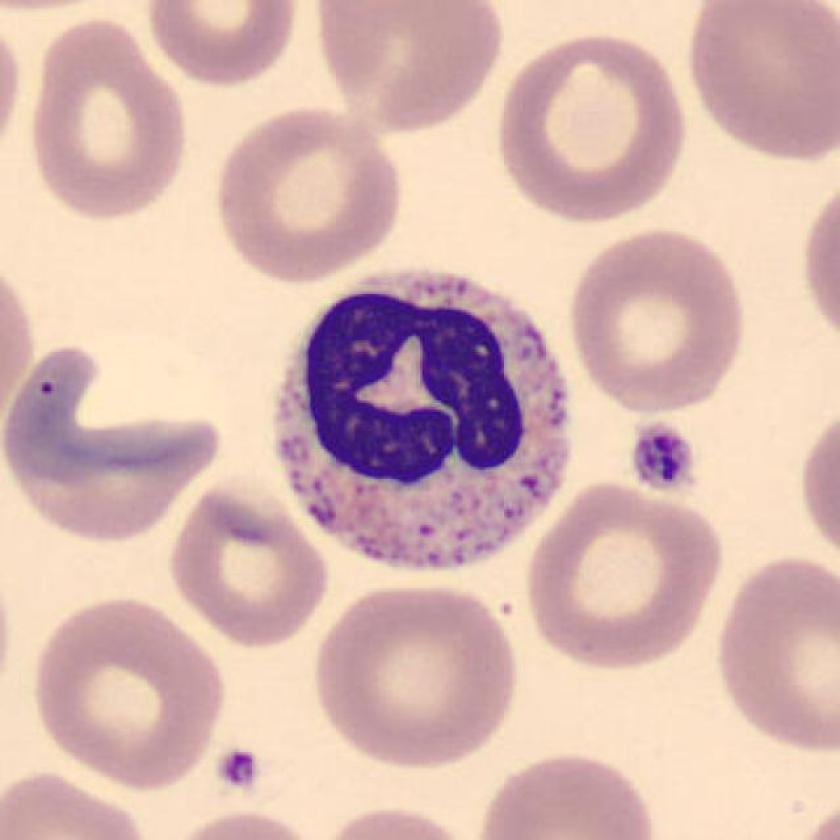neutrophil: (274, 269, 573, 571)
